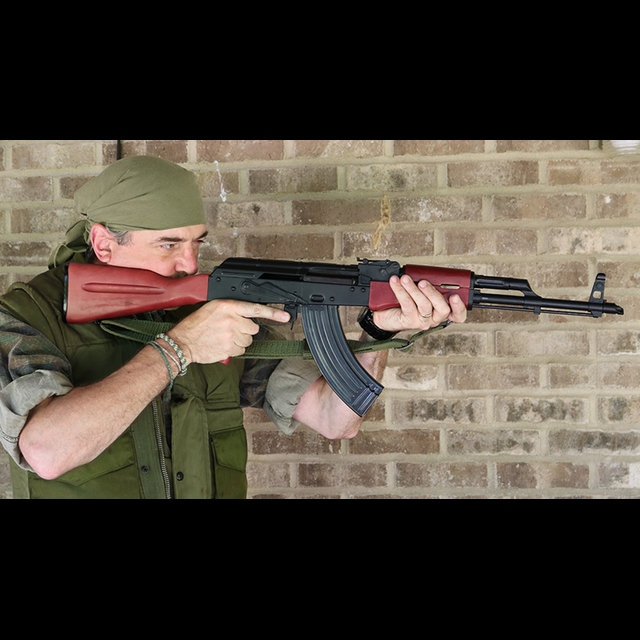AK47: (219, 242, 628, 416)
